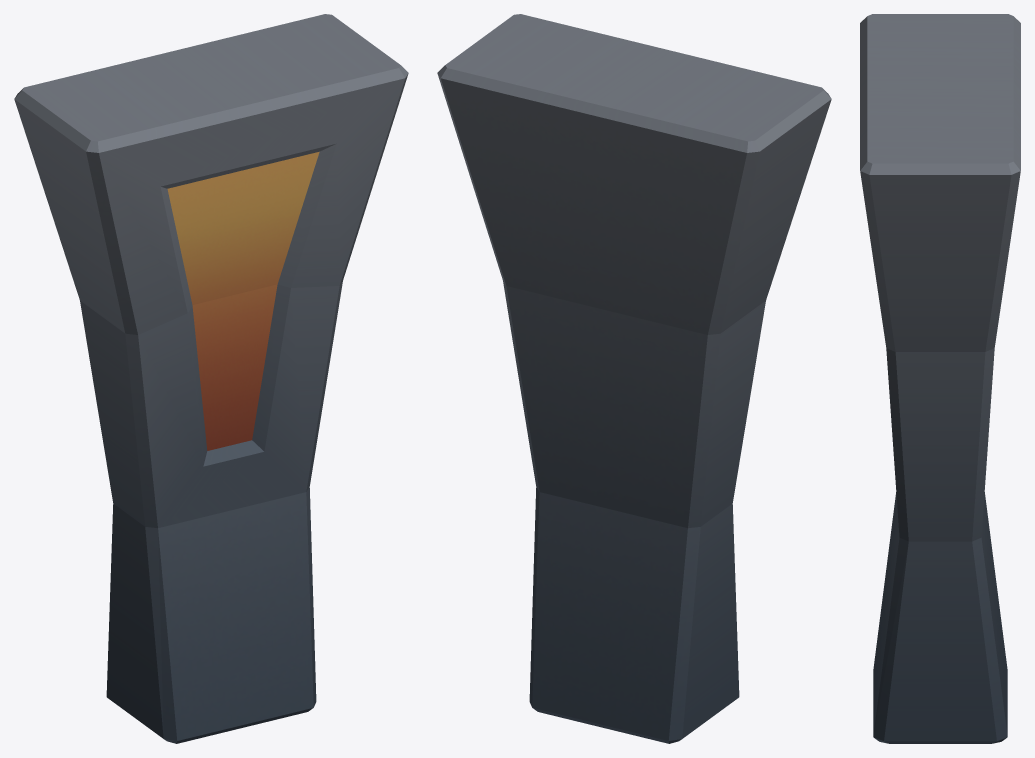
The model's file is Alien_blockD.FBX.
The picture shows the model from 3 angles, left to right: view 1: azimuth 30°, elevation 25°; view 2: azimuth 150°, elevation 25°; view 3: azimuth 270°, elevation 25°; orthographic projection.
Parts seen in each view (by area): view 1: Alien_blockD; view 2: Alien_blockD; view 3: Alien_blockD.
Part boxes in pixels (x1,y1,x2,y2): Alien_blockD: (14, 14, 408, 743); Alien_blockD: (437, 14, 831, 743); Alien_blockD: (860, 14, 1020, 743).
Bounding box in the file's own units: 7.3 × 13.57 × 3.18.
